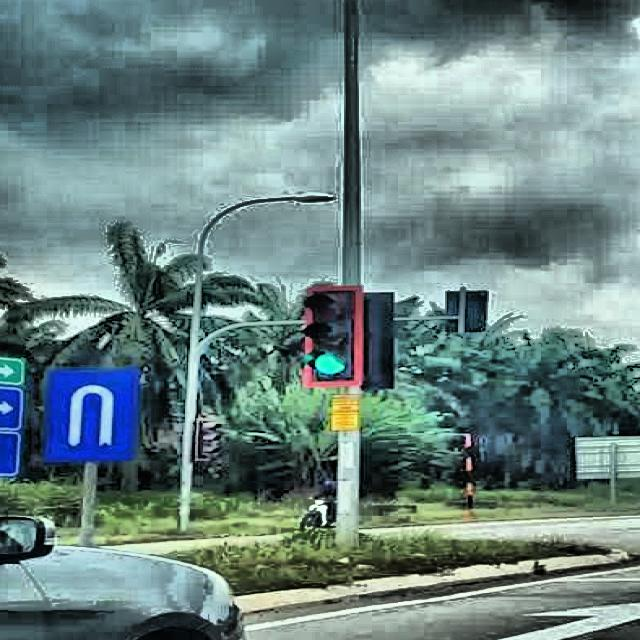green: (304, 284, 362, 384)
